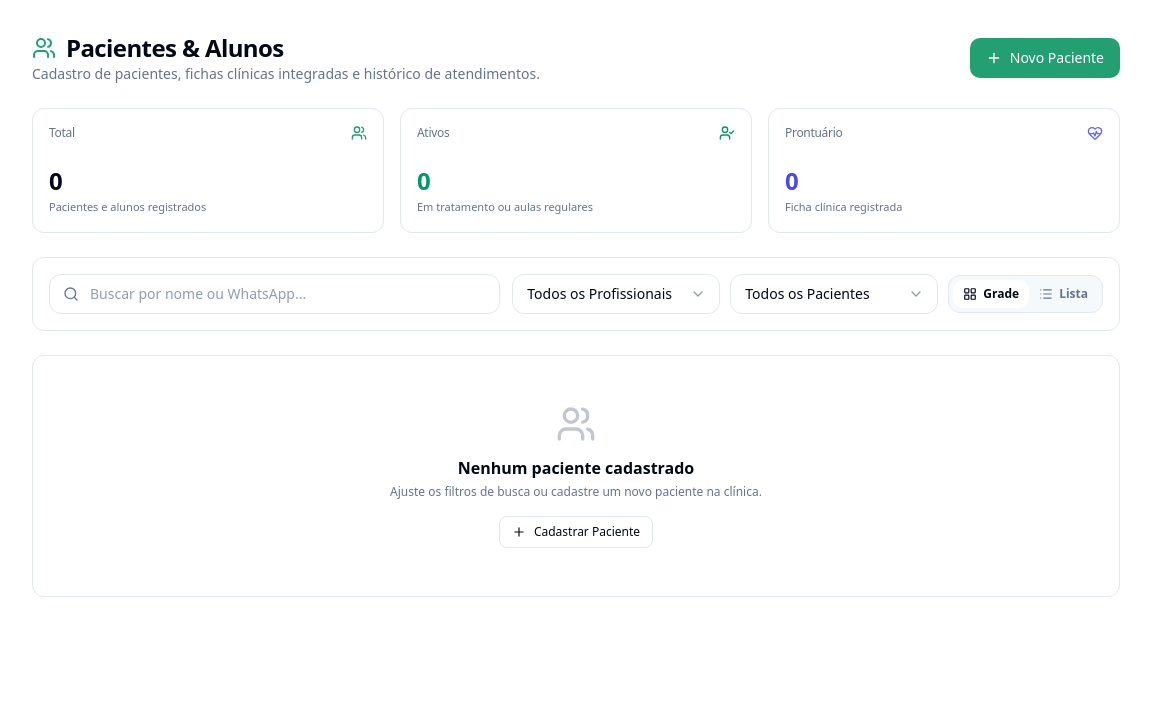
creating patient submits without CEP/emergency and opens patient profile sheet with registration time
Click the button "Novo Paciente": (1045, 58) [970,38,1120,78]
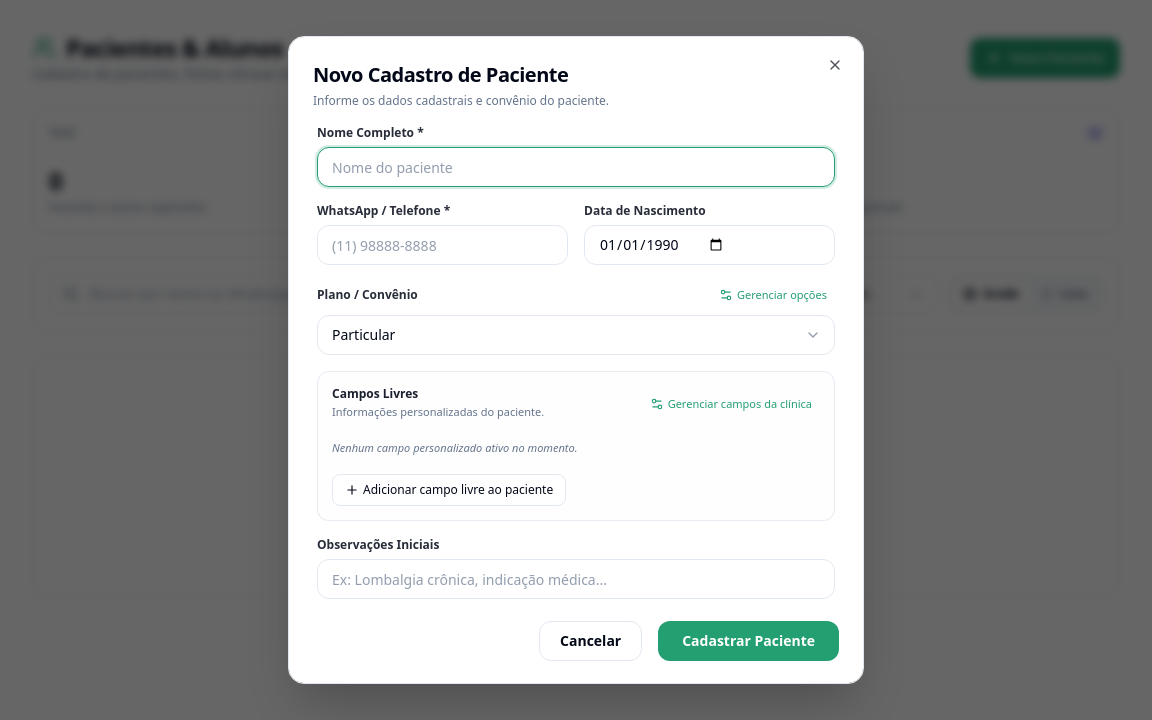
// Preenche nome e telefone
In the field with placeholder "Nome do paciente": (576, 167) [317,147,835,187], type "Lucas Pereira"
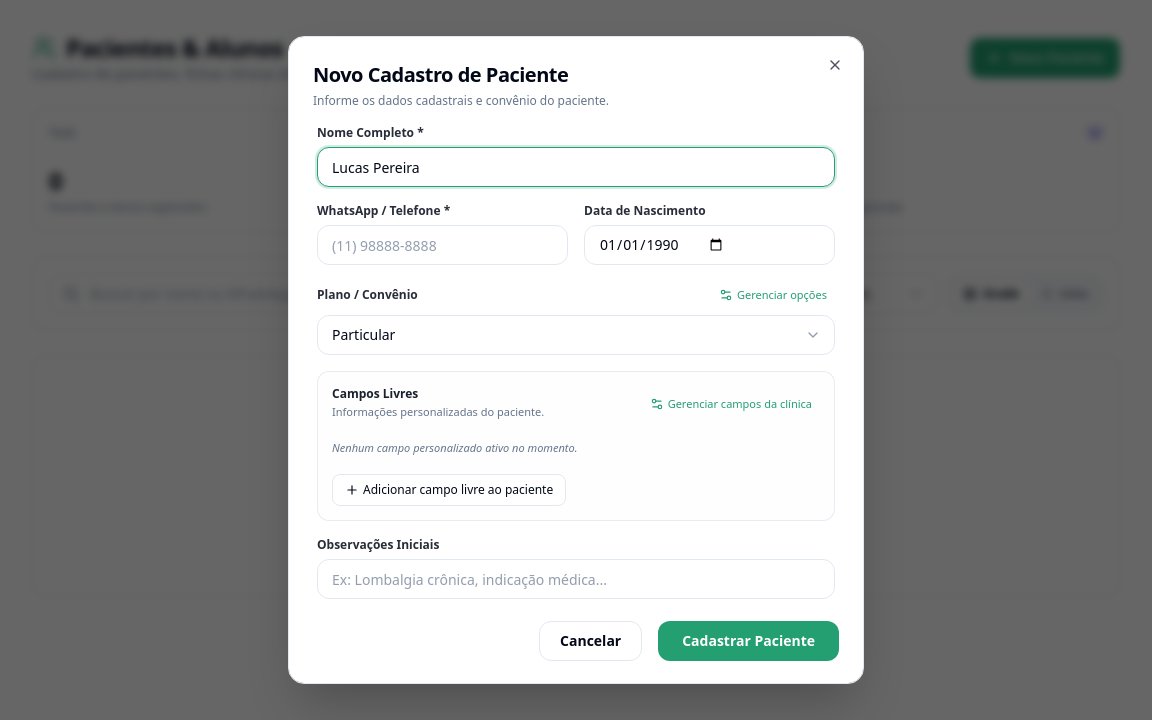
In the field with placeholder "(11) 98888-8888": (442, 245) [317,225,568,265], type "11977778888"
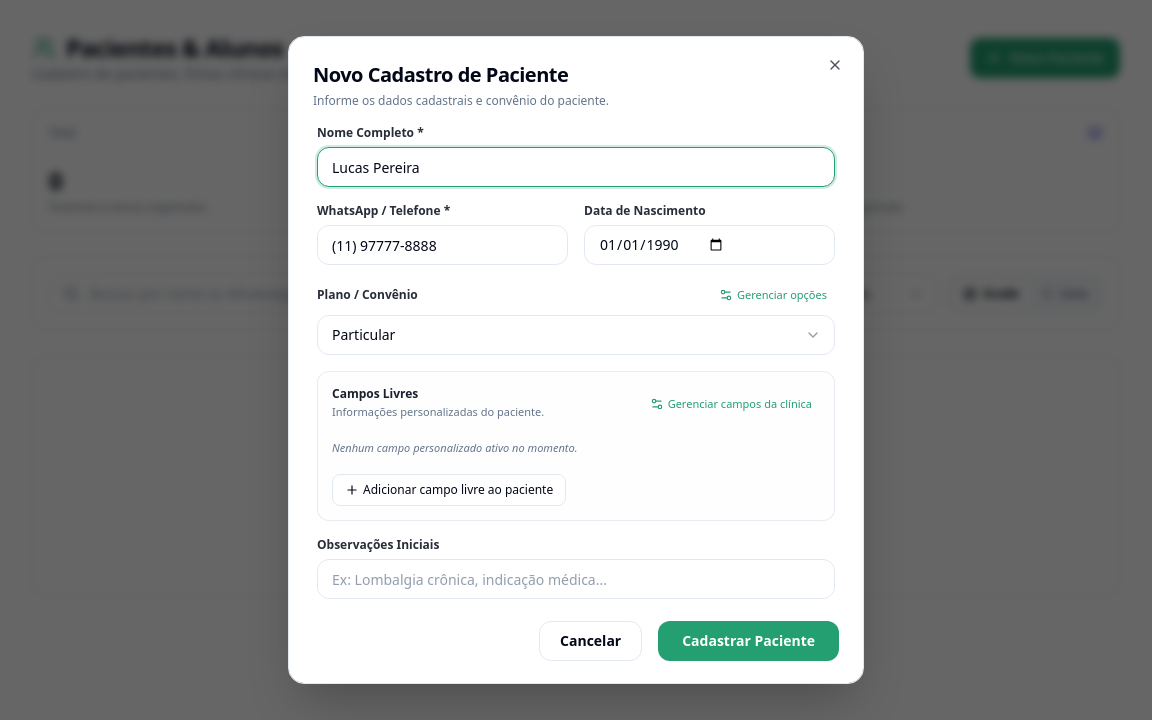
// Clica em cadastrar
Click the button "Cadastrar Paciente": (749, 641) [658,621,839,661]
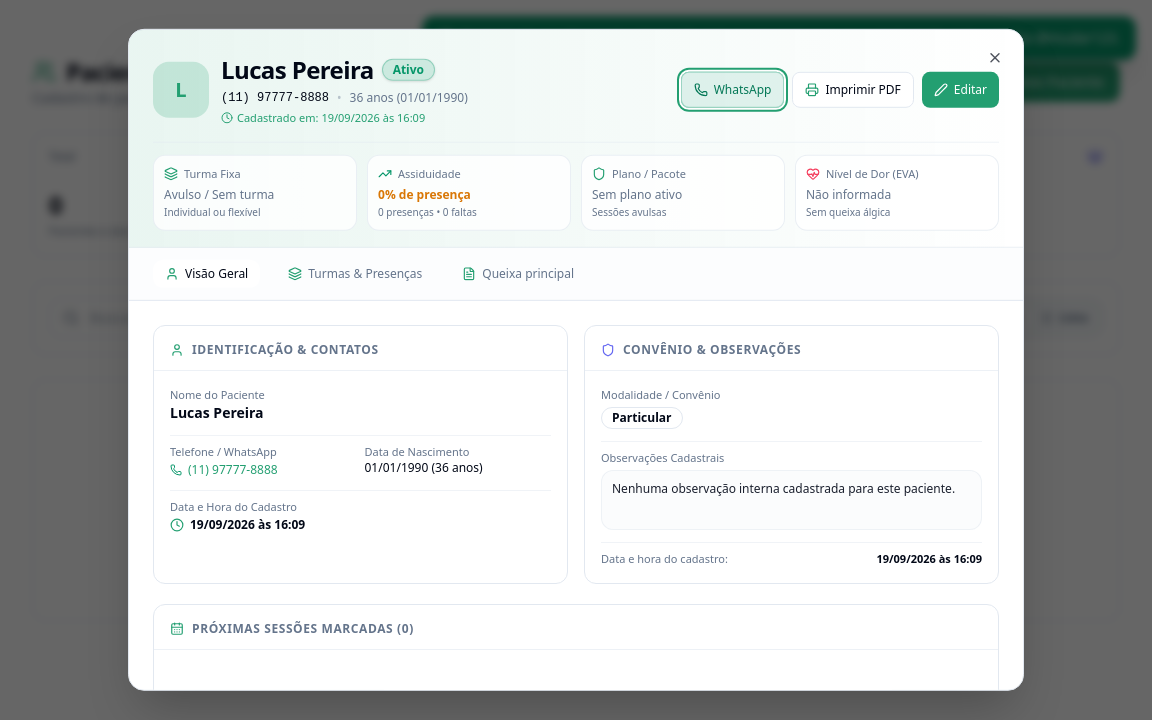
Expected: the text "Cadastrado em: 19/09/2026 às 16:09" is shown, [237,110,425,126]
